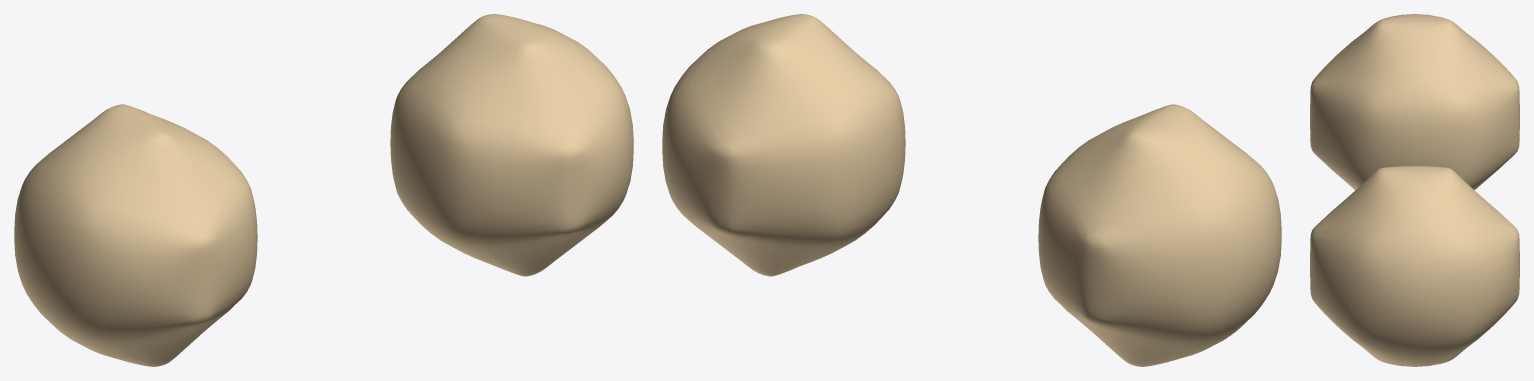
File: peanut.glb
3 views of the same model, side by side, from view 1: azimuth 30°, elevation 25°; view 2: azimuth 150°, elevation 25°; view 3: azimuth 270°, elevation 25° (orthographic). The views are drawn at different scales.
Parts seen in each view (by area): view 1: Peanut; view 2: Peanut; view 3: Peanut.
Boxes of the visible parts, x1,y1,x2,y2 form: Peanut: [14, 14, 633, 366]; Peanut: [662, 14, 1281, 366]; Peanut: [1310, 14, 1519, 366].
Size of the model in its own units: 0.04 by 0.0152 by 0.0152.
